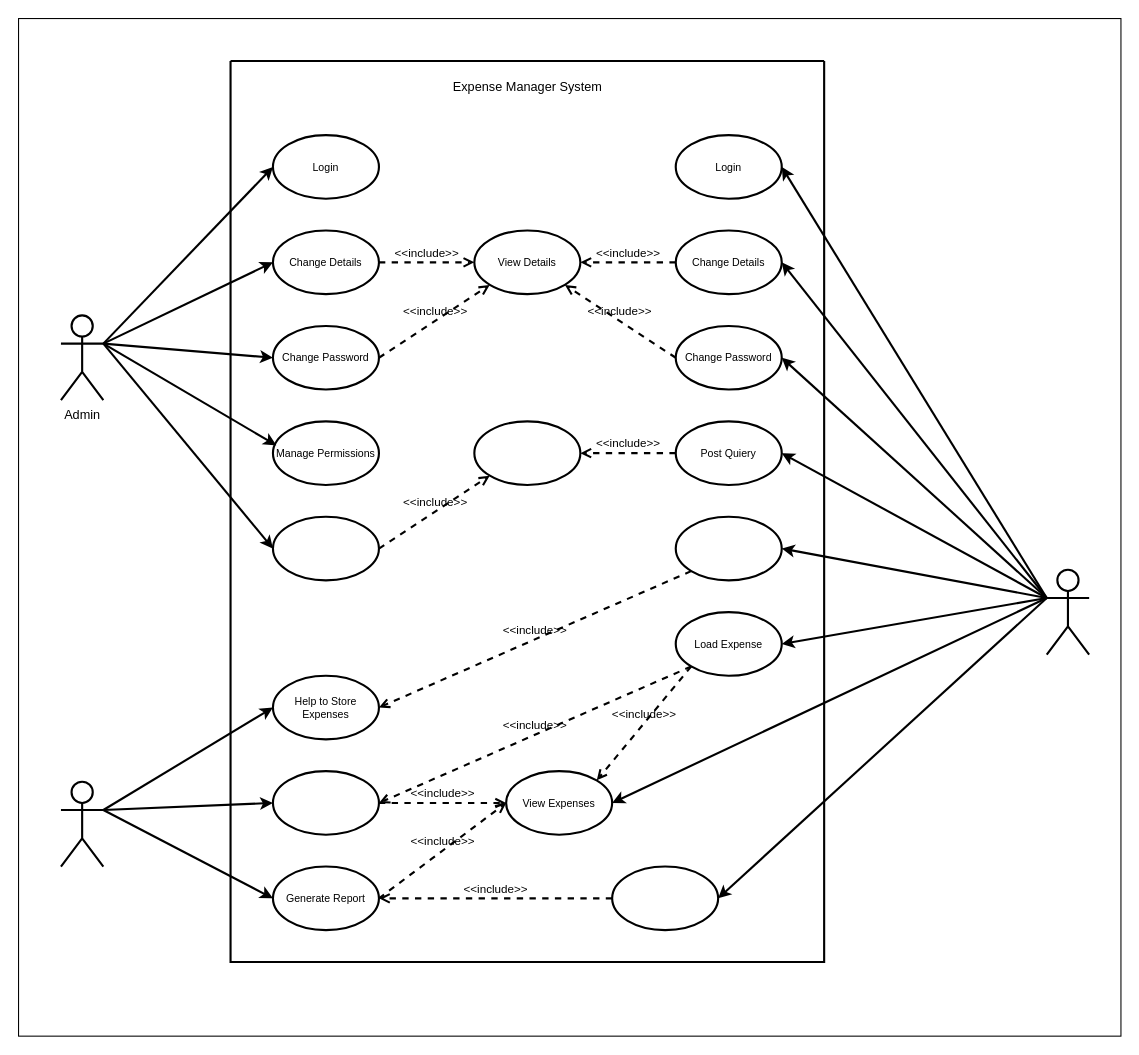
This 1139x1055 diagram has some shape labels left out. Here are the shapes that lost their labels. From the top down, the centre of each, then its label:
At (527,452): "View Quieries".
At (325,548): "Answer Quieries".
At (728,548): "Store Expense".
At (1067,611): "User".
At (325,802): "Help to Load Expenses".
At (81,823): "Expense Manager".
At (665,898): "View Report".
